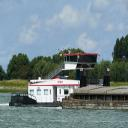tugboat: (9, 50, 112, 112)
